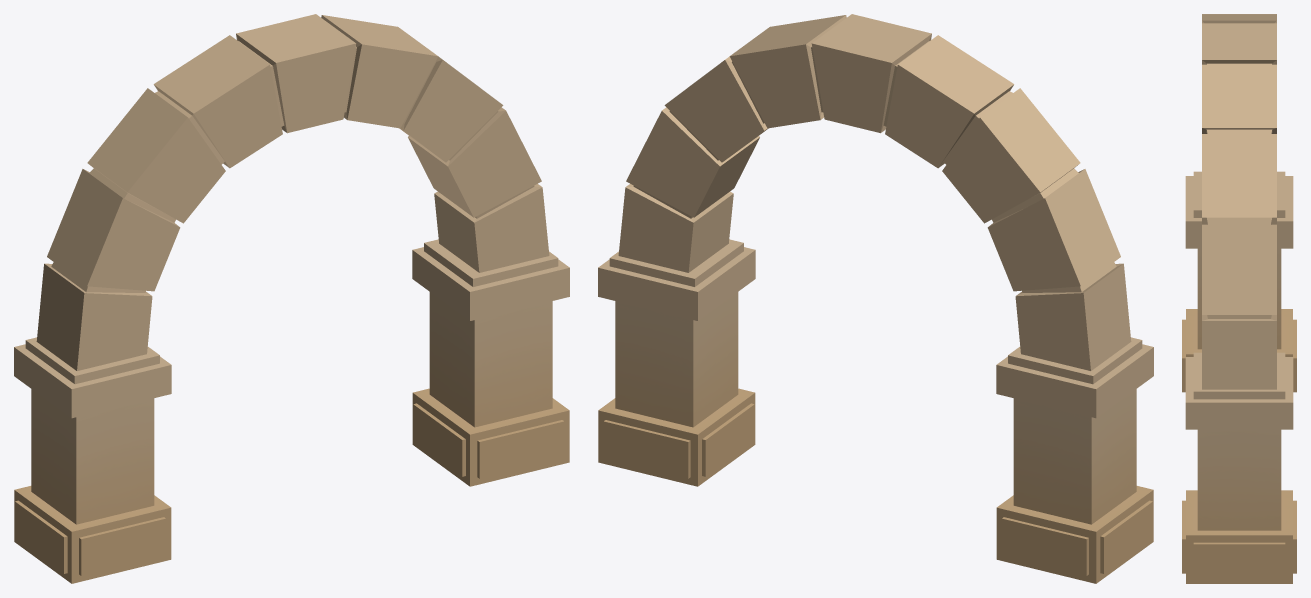
Rendered from Gateway.fbx.
3 views of the same model, side by side, from view 1: azimuth 30°, elevation 25°; view 2: azimuth 150°, elevation 25°; view 3: azimuth 270°, elevation 25° (orthographic). The views are drawn at different scales.
Parts seen in each view (by area): view 1: Box001; view 2: Box001; view 3: Box001.
Part boxes in pixels (x1,y1,x2,y2): Box001: (14, 14, 569, 583); Box001: (598, 14, 1153, 583); Box001: (1182, 14, 1296, 583).
Size of the model in its own units: 200 by 175 by 42.21.
1 material, 1 textured.
